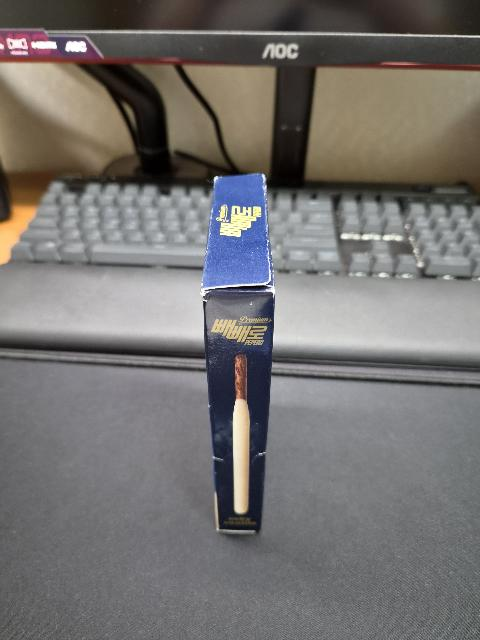pepero: (200, 173, 276, 535)
